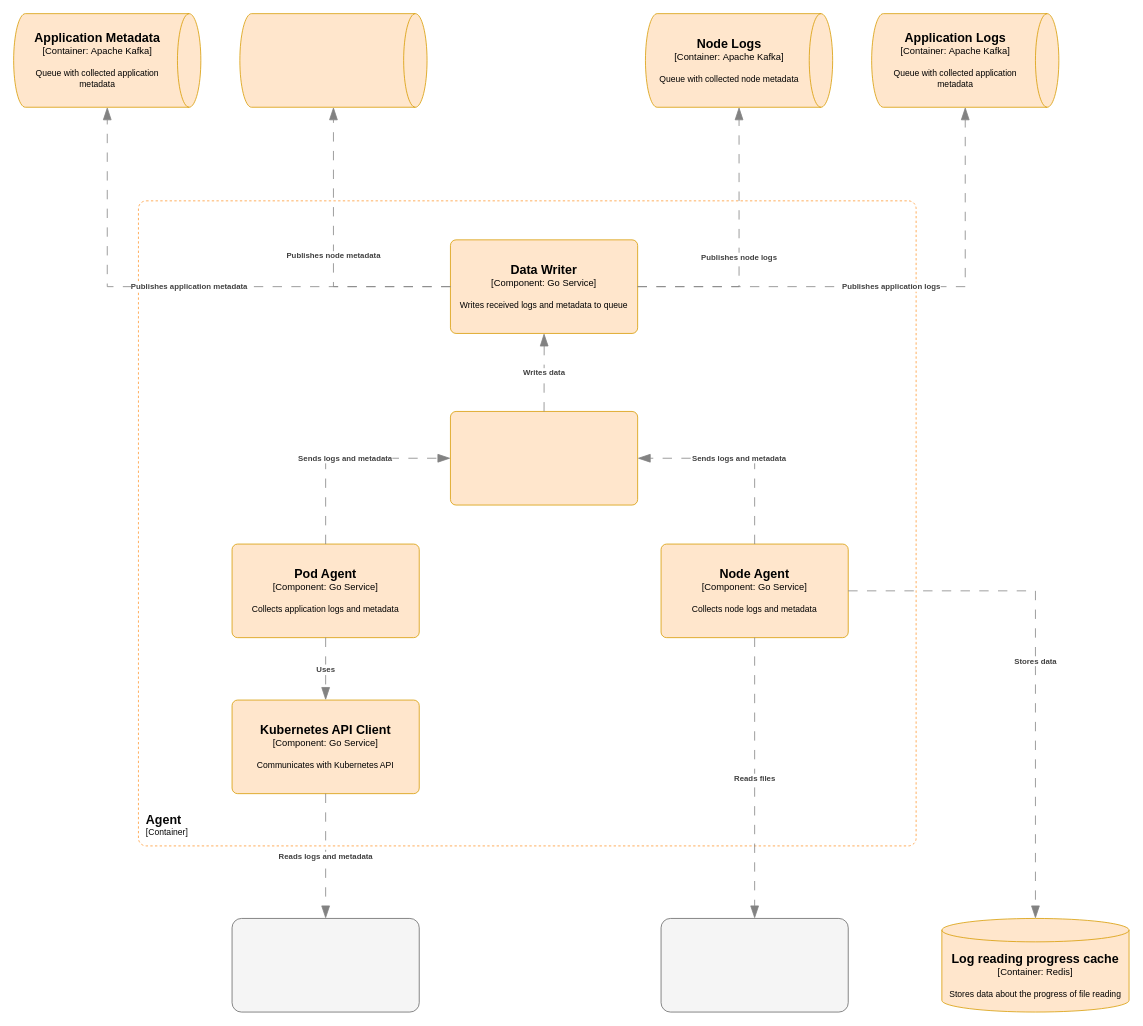
This 1143x1026 diagram has some shape labels left out. Here are the shapes that lost their labels. From the top down, the centre of each, then its label:
the point at 333,60: Node Metadata [Container: Apache Kafka] Queue with collected node metadata
the point at 544,458: Data Collector [Component: Go Service] Listens for logs and metadata
the point at 325,965: Kubernetes [Software System] Kubernetes control plane API
the point at 754,965: Linux filesystem API [Software System] Linux operating system filesystem API
